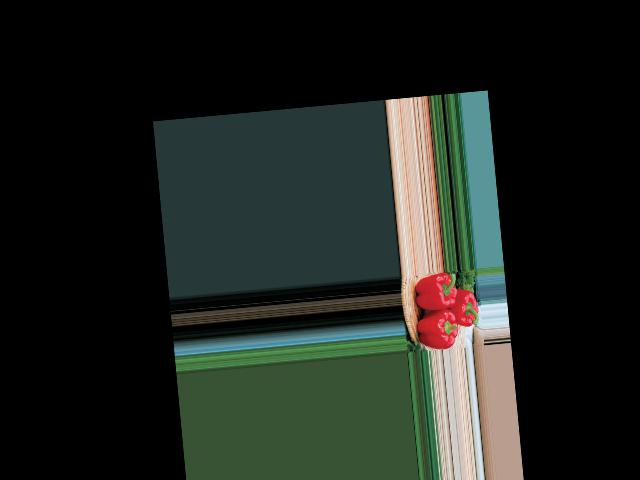bell_pepper: (408, 272, 459, 317)
